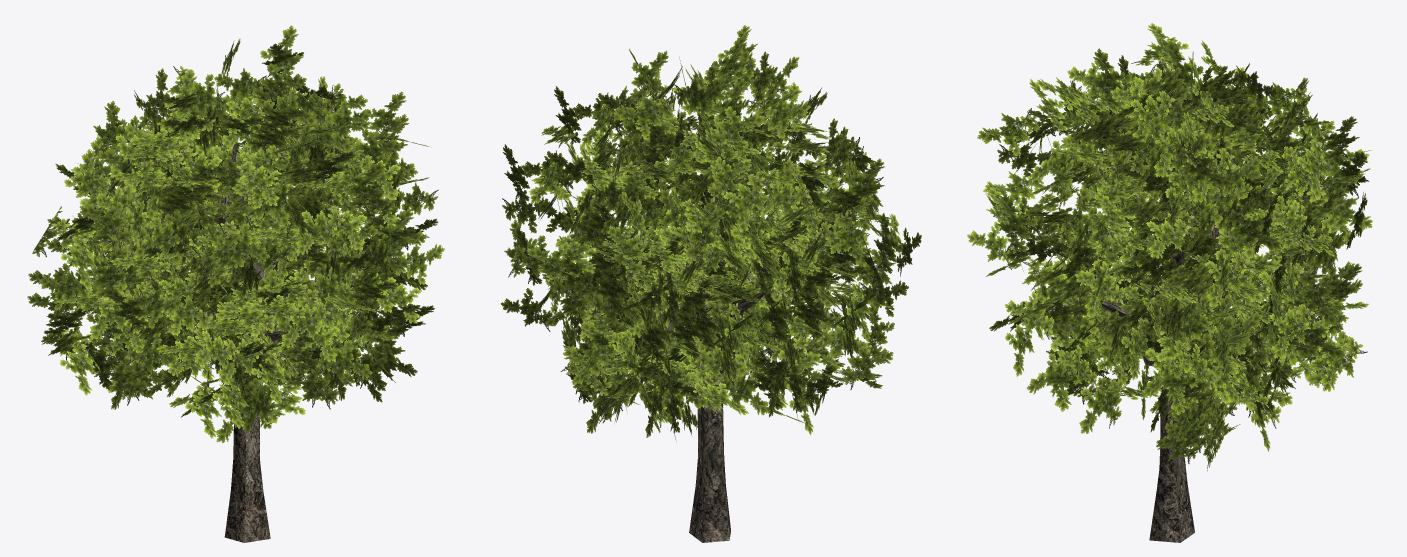
Rendered from tree.fbx.
The picture shows the model from 3 angles, left to right: view 1: azimuth 30°, elevation 25°; view 2: azimuth 150°, elevation 25°; view 3: azimuth 270°, elevation 25°; orthographic projection. The views are drawn at different scales.
Visible parts, largest first — view 1: tree; view 2: tree; view 3: tree.
Part boxes in pixels (box(x1,y1,x2,y2)): tree: box(27, 25, 444, 542); tree: box(500, 25, 921, 542); tree: box(967, 23, 1372, 542).
Bounding box in the file's own units: 14.99 × 12.79 × 16.48.
